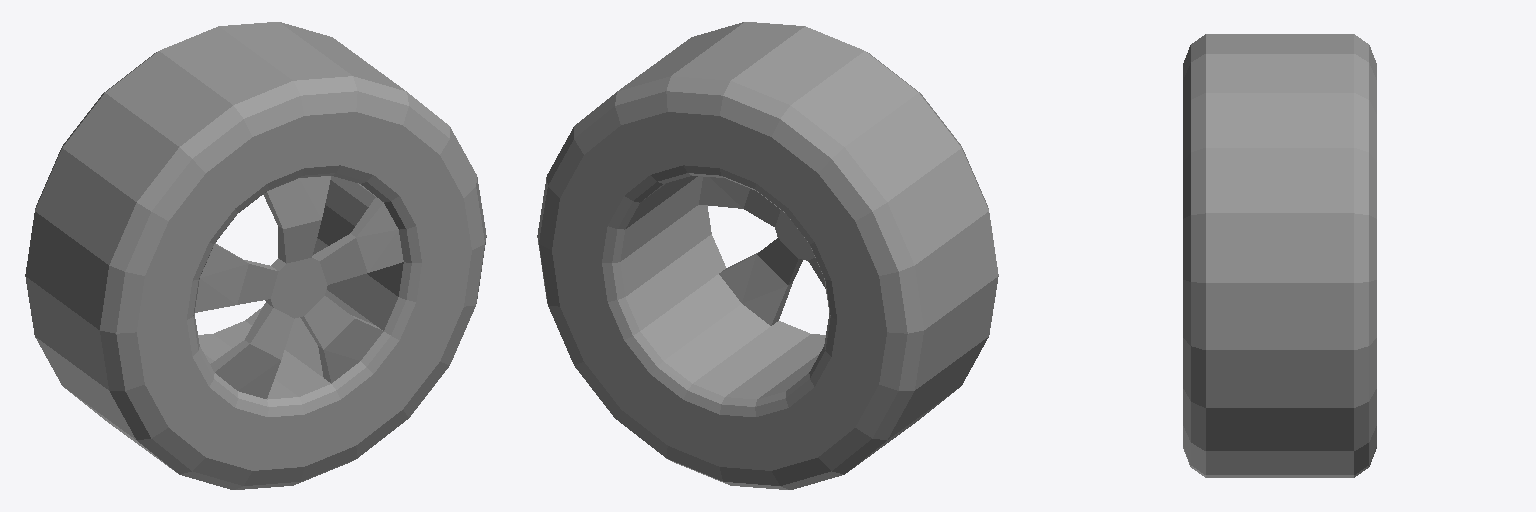
Rendered from generic-wheel.obj.
3 renders of one model, left to right at view 1: azimuth 30°, elevation 25°; view 2: azimuth 150°, elevation 25°; view 3: azimuth 270°, elevation 25°, orthographic.
Parts seen in each view (by area): view 1: wheel_Circle; view 2: wheel_Circle; view 3: wheel_Circle.
Boxes of the visible parts, box(x1,y1,x2,y2) form: wheel_Circle: box(25, 22, 486, 489); wheel_Circle: box(537, 22, 998, 489); wheel_Circle: box(1183, 34, 1376, 477).
Bounding box in the file's own units: 0.6 × 0.6 × 0.26.